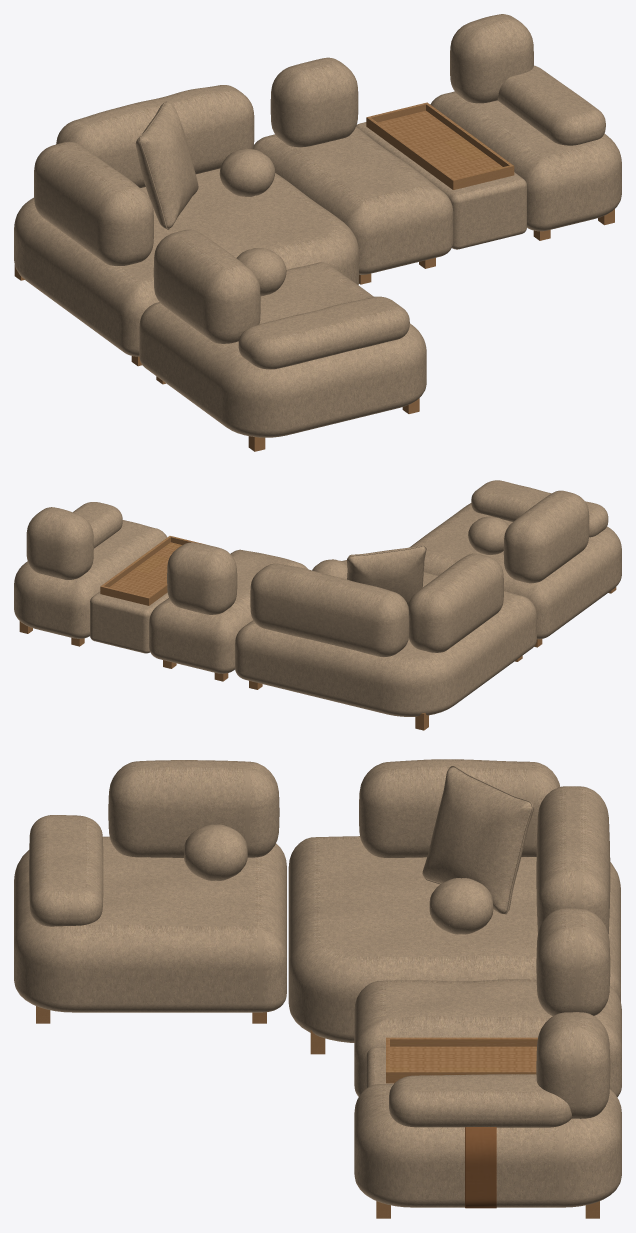
The model's file is chaise-3seats.glb.
3 renders of one model, top to bottom at view 1: azimuth 30°, elevation 25°; view 2: azimuth 150°, elevation 25°; view 3: azimuth 270°, elevation 25°, orthographic. The views are drawn at different scales.
Visible parts, largest first — view 1: fabric, pillows, detail, legs; view 2: fabric, pillows, detail, legs; view 3: fabric, pillows, detail (×2), legs.
Boxes of the visible parts, box(x1,y1,x2,y2) form: fabric: box(14, 14, 621, 437); pillows: box(135, 102, 286, 296); detail: box(366, 102, 514, 189); legs: box(14, 209, 614, 451); fabric: box(14, 480, 621, 716); pillows: box(312, 516, 508, 605); detail: box(100, 536, 205, 605); legs: box(19, 587, 616, 730); fabric: box(14, 759, 621, 1207); pillows: box(184, 767, 533, 934); detail (×2): box(386, 1037, 537, 1208); legs: box(36, 1006, 599, 1218).
Size of the model in its own units: 3 by 0.9057 by 2.5.
4 materials, 4 textured.
